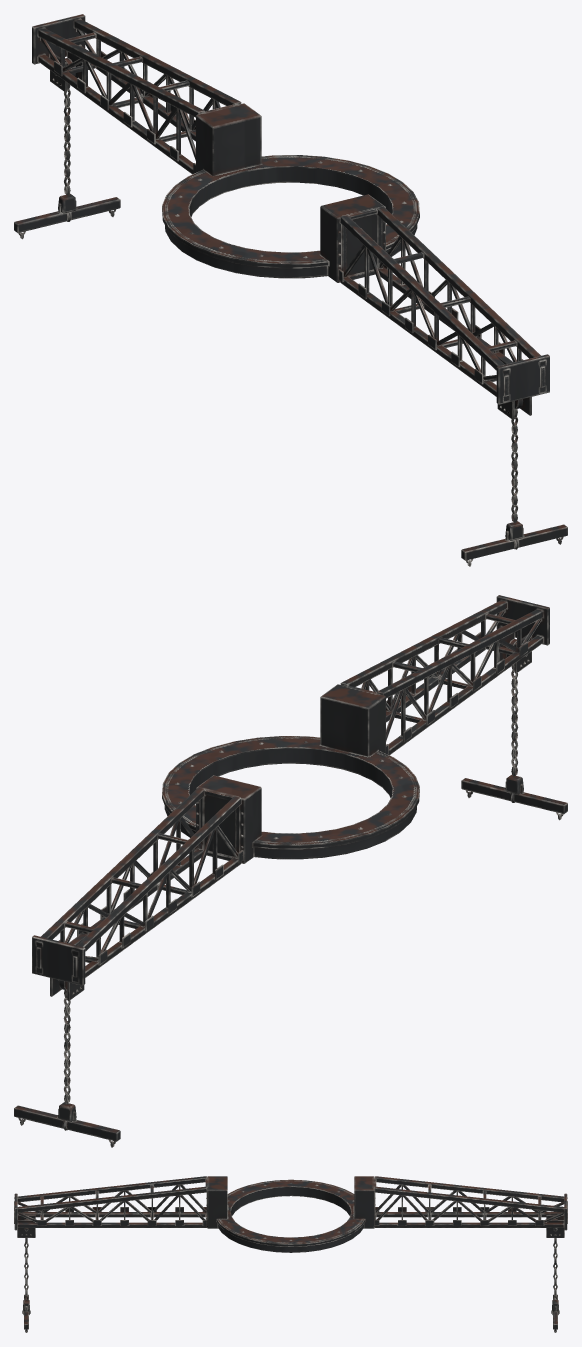
The model's file is foundry_crane_arm.glb.
3 renders of one model, top to bottom at view 1: azimuth 30°, elevation 25°; view 2: azimuth 150°, elevation 25°; view 3: azimuth 270°, elevation 25°, orthographic. The views are drawn at different scales.
Visible parts, largest first — view 1: foundry_crane_arm; view 2: foundry_crane_arm; view 3: foundry_crane_arm.
Part boxes in pixels (x1,y1,x2,y2): foundry_crane_arm: (14, 14, 567, 566); foundry_crane_arm: (14, 595, 567, 1147); foundry_crane_arm: (14, 1176, 567, 1332).
Size of the model in its own units: 5.2 by 5.16 by 18.85.
Materials: 1 (1 with a texture image).
